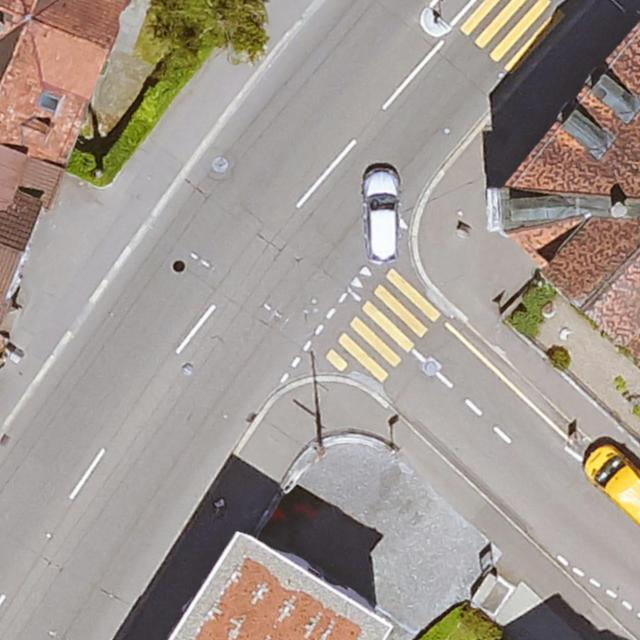tree: (200, 0, 267, 53), (151, 0, 205, 45)
